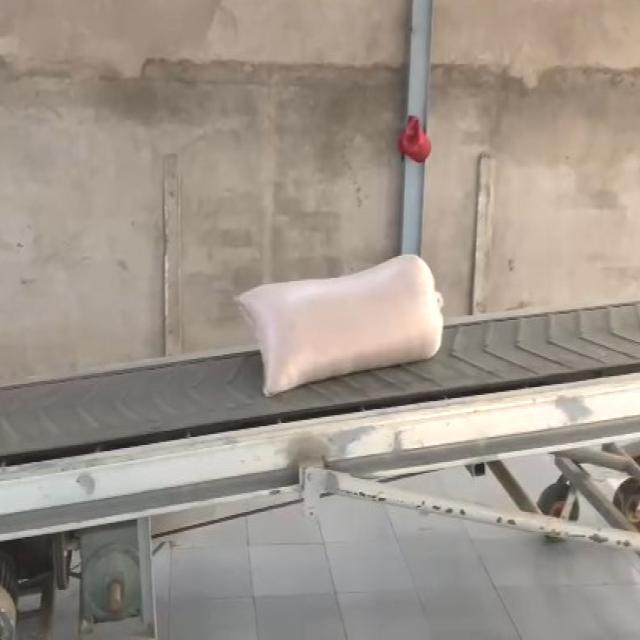gunny_bag: (237, 254, 442, 396)
